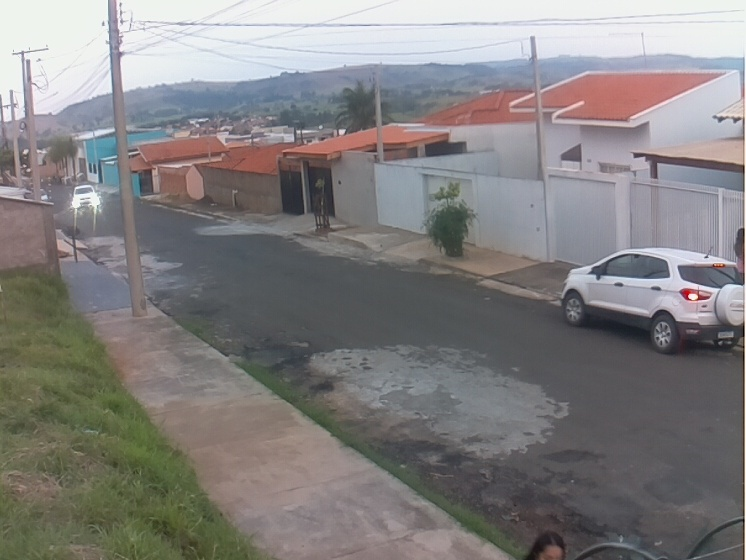person: (519, 529, 570, 560)
